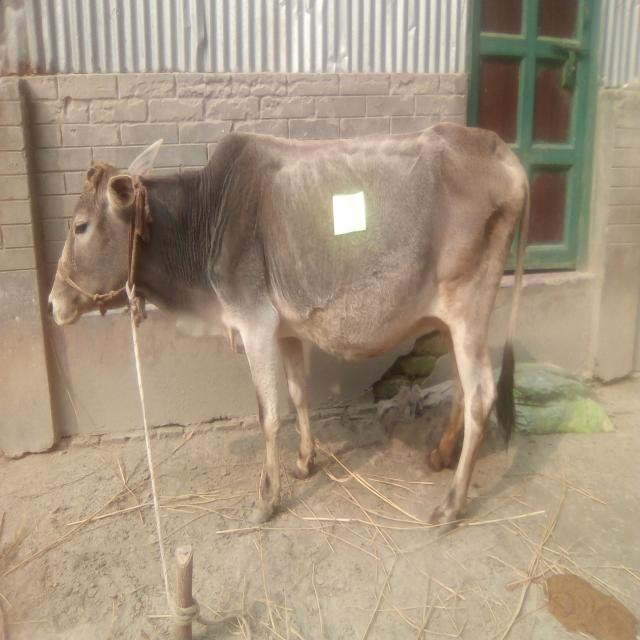badan_sapi: (225, 131, 528, 365)
sapi: (40, 116, 536, 535)
